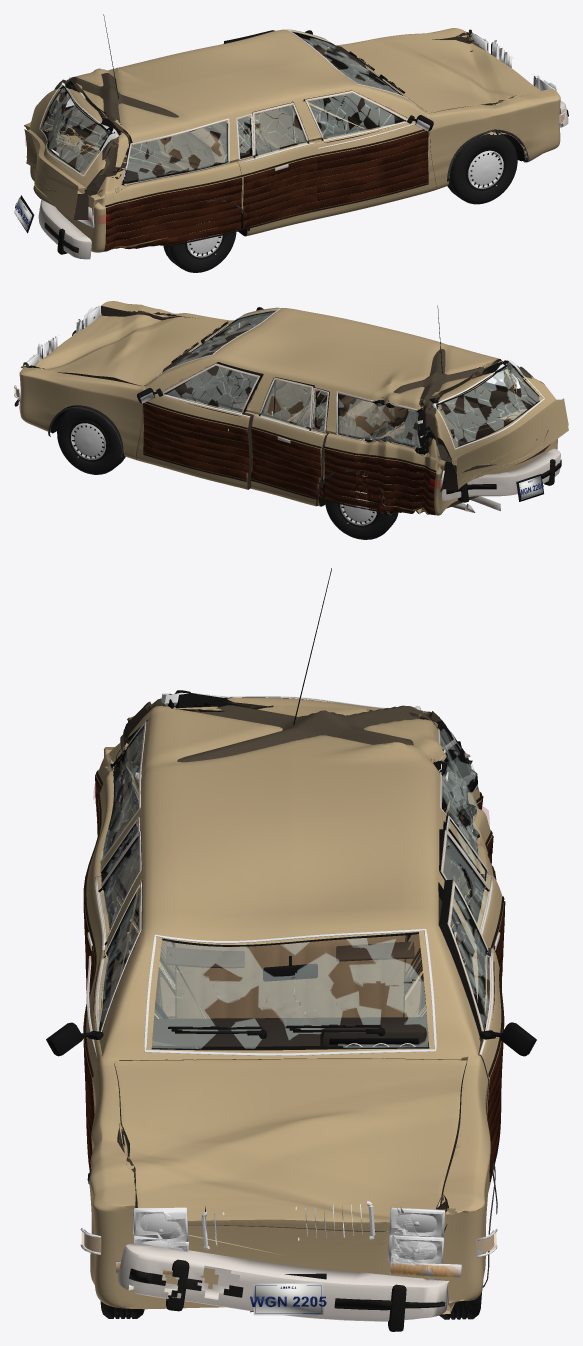
File: wagon82_rear_corner_d1_lod1.glb
3 renders of one model, top to bottom at view 1: azimuth 30°, elevation 25°; view 2: azimuth 150°, elevation 25°; view 3: azimuth 270°, elevation 25°, orthographic. The views are drawn at different scales.
Parts seen in each view (by area): view 1: Body, Hood, Trim, Interior, Trim_FR, Tailgate, Trim_RR, Glass, Wheel_FR_mesh, Door_FR, Glass_Tailgate, Glass_FR (+5 smaller); view 2: Body, Hood, Tailgate, Trim, Interior, Trim_FL, Trim_RL, Glass, Glass_Tailgate, Wheel_FL_mesh, Door_FL, Bumper_R (+5 smaller); view 3: Body, Hood, Interior, Glass, Bumper_F, Ends, Door_FL, Trim, Trim_FL, Tailgate, Trim_FR, Lamps_Head (+9 smaller).
Part boxes in pixels (box(x1,y1,x2,y2)): Body: box(24, 28, 560, 252); Hood: box(340, 38, 540, 112); Trim: box(56, 14, 528, 251); Interior: box(55, 46, 399, 190); Trim_FR: box(305, 91, 433, 210); Tailgate: box(24, 79, 128, 219); Trim_RR: box(236, 103, 319, 228); Glass: box(48, 30, 416, 185); Wheel_FR_mesh: box(447, 134, 517, 204); Door_FR: box(304, 90, 436, 218); Glass_Tailgate: box(39, 82, 118, 176); Glass_FR: box(308, 91, 406, 142); Body: box(19, 301, 557, 515); Hood: box(34, 314, 231, 385); Tailgate: box(422, 360, 568, 492); Trim: box(48, 305, 519, 515); Interior: box(162, 329, 510, 462); Trim_FL: box(137, 364, 259, 481); Trim_RL: box(250, 378, 328, 499); Glass: box(155, 308, 519, 454); Glass_Tailgate: box(432, 359, 544, 449); Wheel_FL_mesh: box(57, 405, 125, 474); Door_FL: box(136, 362, 262, 489); Bumper_R: box(440, 448, 561, 502); Body: box(86, 705, 493, 1314); Hood: box(114, 1058, 466, 1231); Interior: box(152, 934, 428, 1046); Glass: box(100, 720, 479, 1055); Bumper_F: box(118, 1243, 449, 1331); Ends: box(80, 772, 497, 1315); Door_FL: box(438, 879, 502, 1193); Trim: box(83, 568, 497, 1287); Trim_FL: box(448, 881, 536, 1181); Tailgate: box(123, 690, 461, 837); Trim_FR: box(46, 882, 141, 1171); Lamps_Head: box(135, 1211, 441, 1265).
Bounding box in the file's own units: 4.99 × 2.11 × 2.14.
Materials: 35 (6 with a texture image).
